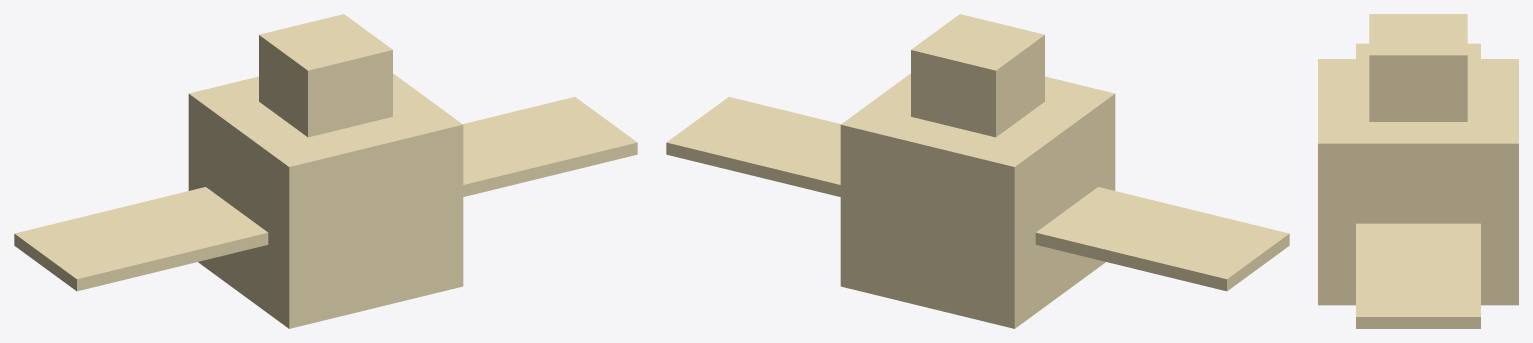
File: saturn.glb
3 renders of one model, left to right at view 1: azimuth 30°, elevation 25°; view 2: azimuth 150°, elevation 25°; view 3: azimuth 270°, elevation 25°, orthographic.
Visible parts, largest first — view 1: saturn-node; view 2: saturn-node; view 3: saturn-node.
Part boxes in pixels (x1,y1,x2,y2): saturn-node: (14, 14, 637, 328); saturn-node: (666, 14, 1289, 328); saturn-node: (1318, 14, 1518, 328).
Size of the model in its own units: 2.9 by 1.13 by 0.9.
